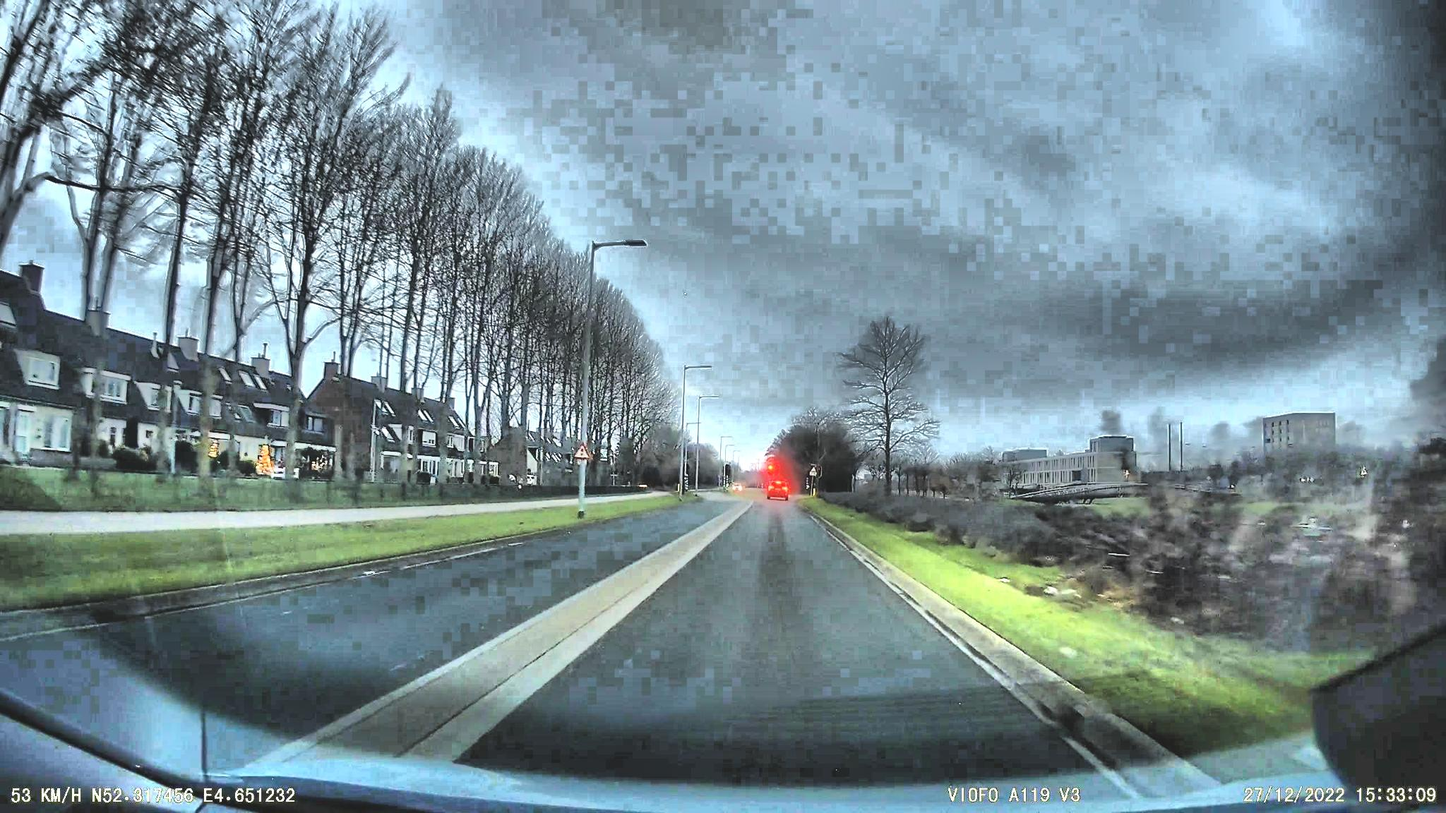Roads: (0, 497, 1154, 813)
